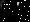person: (19, 4, 26, 14), (3, 3, 7, 14)
